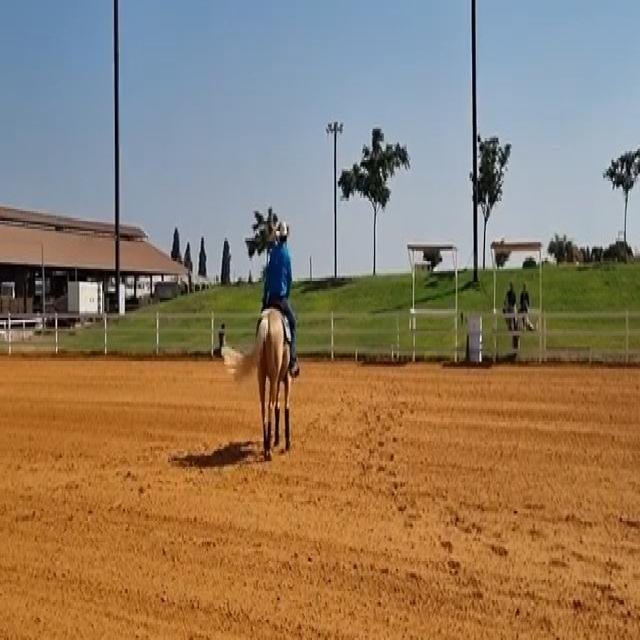horse: (253, 302, 293, 460)
